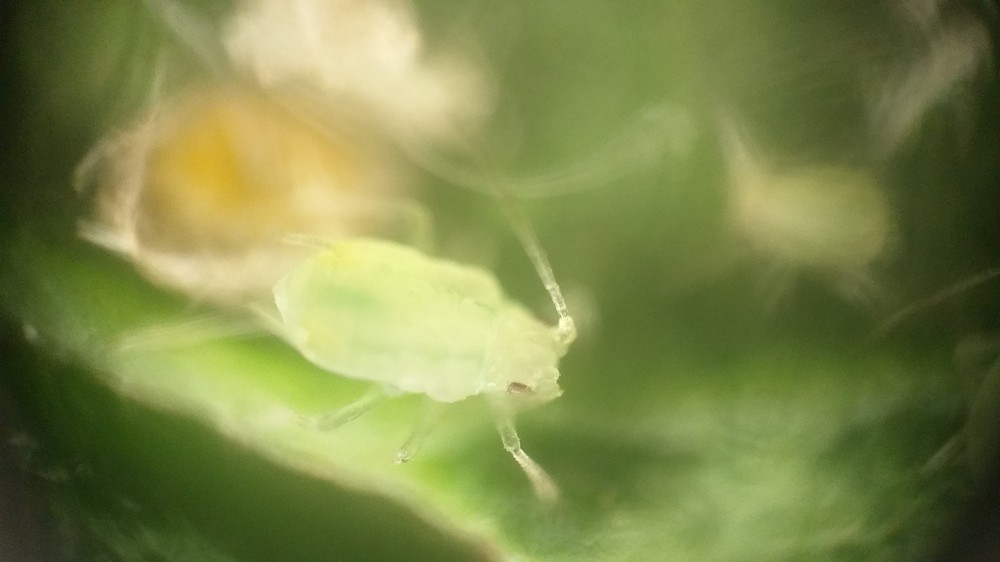Pulgon: (254, 192, 643, 507)
